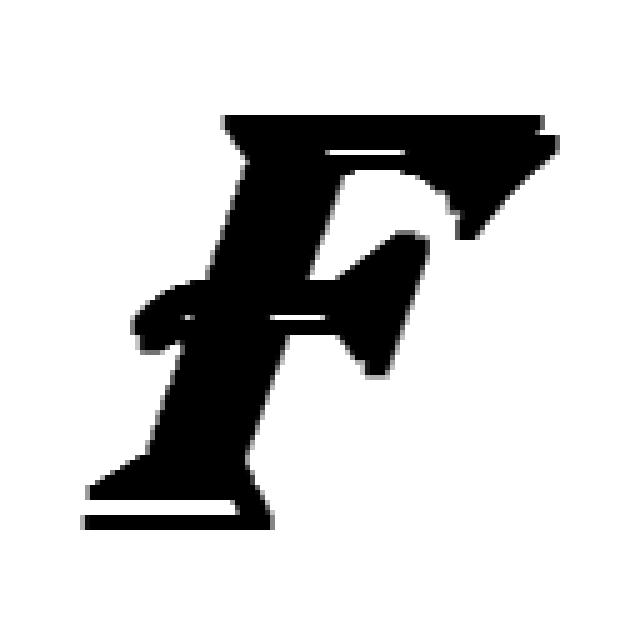F: (111, 113, 543, 529)
